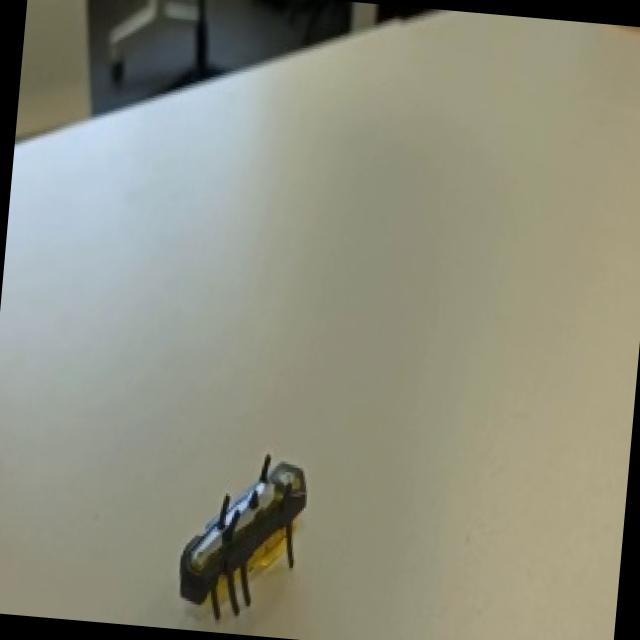6_NanoBug_GrisOscuro: (114, 438, 309, 638)
